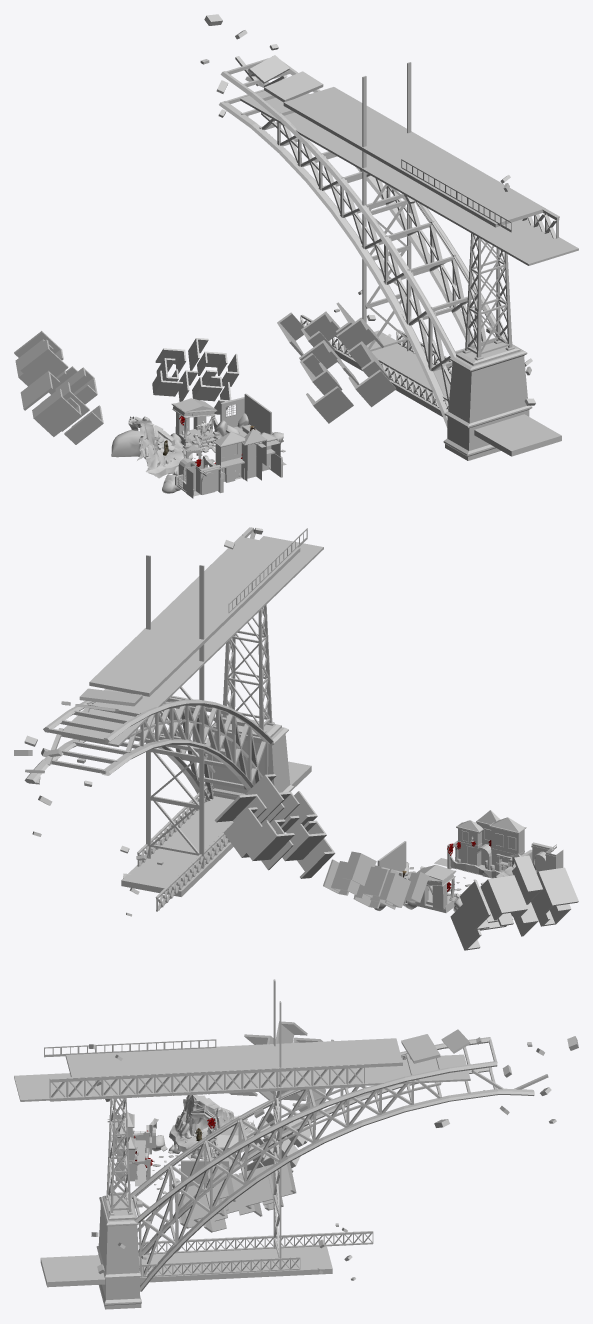
The model's file is SC05_A_LAB_v11.fbx.
3 renders of one model, top to bottom at view 1: azimuth 30°, elevation 25°; view 2: azimuth 150°, elevation 25°; view 3: azimuth 270°, elevation 25°, orthographic. The views are drawn at different scales.
Parts seen in each view (by area): view 1: Cube.078, Cube.081, Cube.082, Cube.077, Cave Rock Mountain2.001, Plane.027, Plane.012, Cube.234; view 2: Cube.078, Cube.081, Cube.082, Cube.077, Plane.012, Plane.027, Cube.234; view 3: Cube.078, Cube.081, Cave Rock Mountain2.001, Cube.082, Cube.077, Plane.027.
Part boxes in pixels (box(x1,y1,x2,y2)): Cube.078: box(200, 14, 578, 460); Cube.081: box(277, 302, 396, 423); Cube.082: box(14, 331, 103, 444); Cube.077: box(152, 338, 239, 414); Cave Rock Mountain2.001: box(111, 416, 185, 478); Plane.027: box(244, 393, 271, 434); Plane.012: box(215, 442, 247, 482); Cube.234: box(171, 398, 217, 417); Cube.078: box(14, 527, 323, 916); Cube.081: box(214, 774, 335, 878); Cube.082: box(450, 855, 578, 950); Cube.077: box(323, 851, 429, 909); Plane.012: box(491, 827, 524, 870); Plane.027: box(377, 841, 406, 871); Cube.234: box(408, 864, 456, 886); Cube.078: box(14, 979, 578, 1309); Cube.081: box(174, 1162, 296, 1232); Cave Rock Mountain2.001: box(169, 1094, 255, 1154); Cube.082: box(229, 1021, 333, 1116); Cube.077: box(243, 1112, 310, 1172); Plane.027: box(181, 1160, 228, 1194).
Size of what is drawn, in the model's own units: 5482 by 3811 by 6624.
